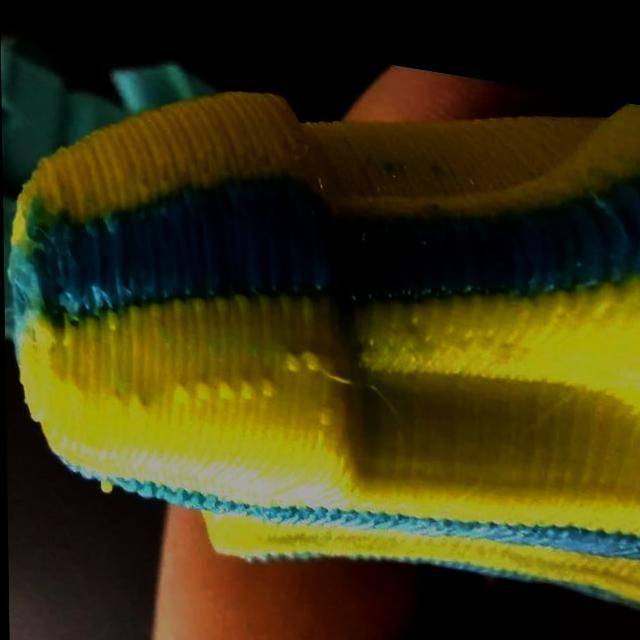zits: (209, 360, 235, 406), (252, 360, 280, 398), (39, 362, 66, 396), (104, 206, 129, 239), (234, 364, 256, 401), (294, 332, 320, 363), (168, 370, 190, 405), (104, 382, 127, 415), (278, 334, 300, 367), (193, 366, 213, 399), (96, 466, 116, 498), (100, 298, 122, 326), (80, 206, 100, 235), (66, 378, 86, 403)
